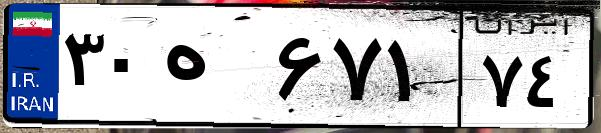0: (110, 28, 158, 98)
1: (385, 28, 445, 110)
3: (57, 26, 110, 100)
4: (525, 38, 570, 115)
6: (270, 28, 330, 110)
7: (330, 28, 385, 110), (475, 38, 525, 113)
ه: (158, 20, 270, 120)
